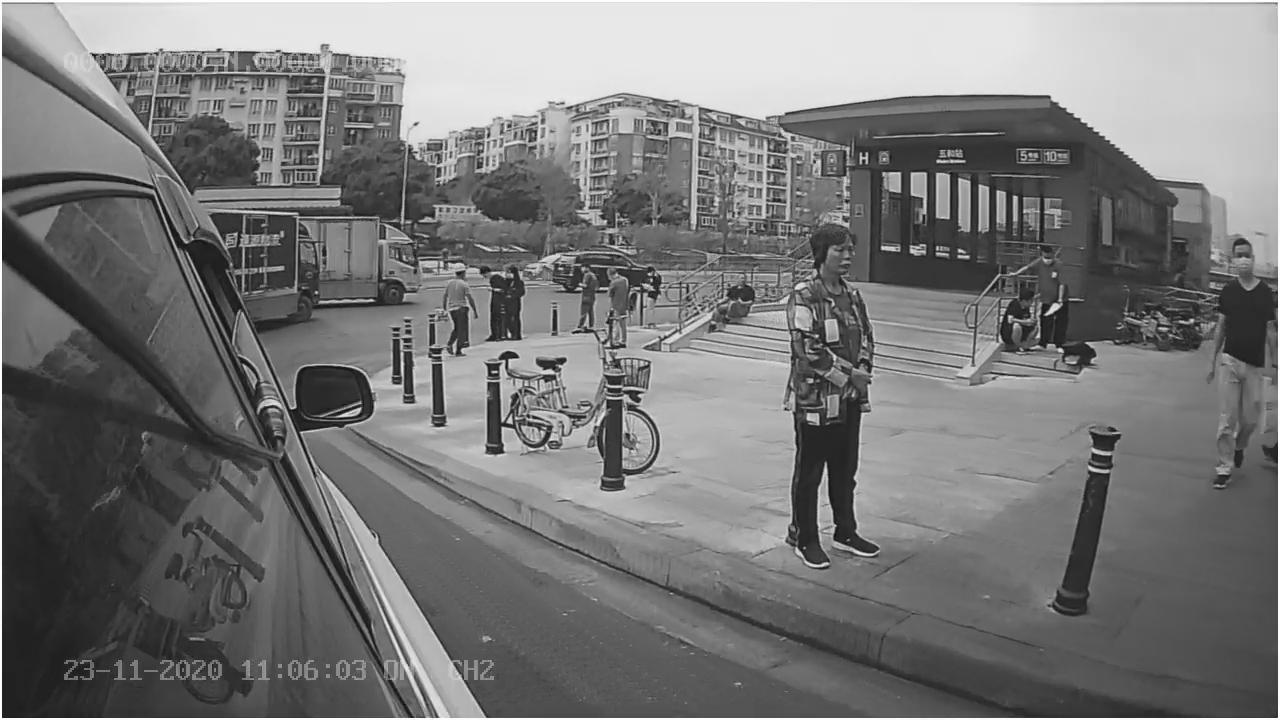person: (779, 215, 890, 573)
